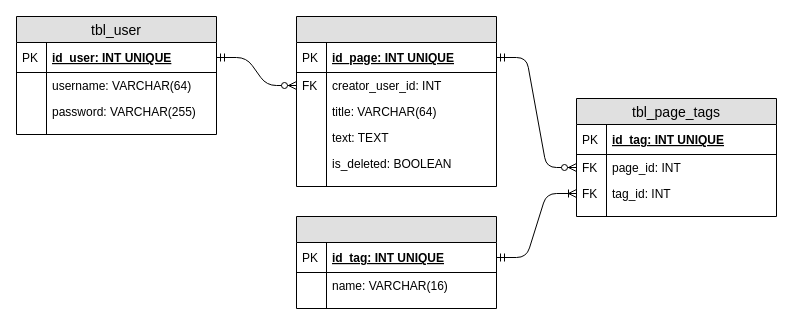
This 793x325 diagram has some shape labels left out. Here are the shapes that lost their labels. From the top down, the box of each, then its label:
(296, 16, 496, 186): tbl_page
(296, 216, 496, 308): tbl_tag
